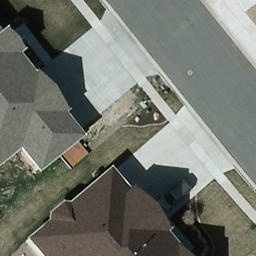car: (161, 180, 189, 215)
